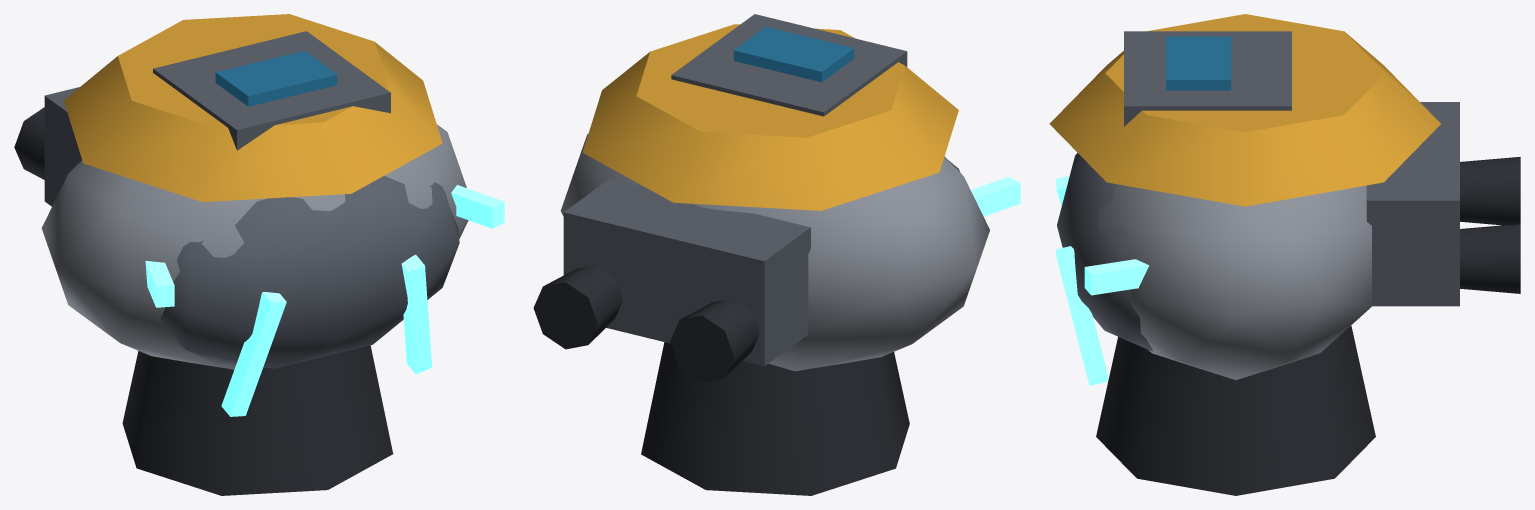
The model's file is body_sharp.glb.
3 renders of one model, left to right at view 1: azimuth 30°, elevation 25°; view 2: azimuth 150°, elevation 25°; view 3: azimuth 270°, elevation 25°, orthographic.
Parts seen in each view (by area): view 1: body, hatch; view 2: body, hatch; view 3: body, hatch.
Boxes of the visible parts, x1=… form: body: x1=14, y1=14, x2=504, y2=495; hatch: x1=153, y1=31, x2=390, y2=150; body: x1=533, y1=24, x2=1020, y2=495; hatch: x1=671, y1=14, x2=907, y2=116; body: x1=1049, y1=14, x2=1520, y2=495; hatch: x1=1124, y1=31, x2=1291, y2=126.
Bounding box in the file's own units: 1 × 0.895 × 1.01.
